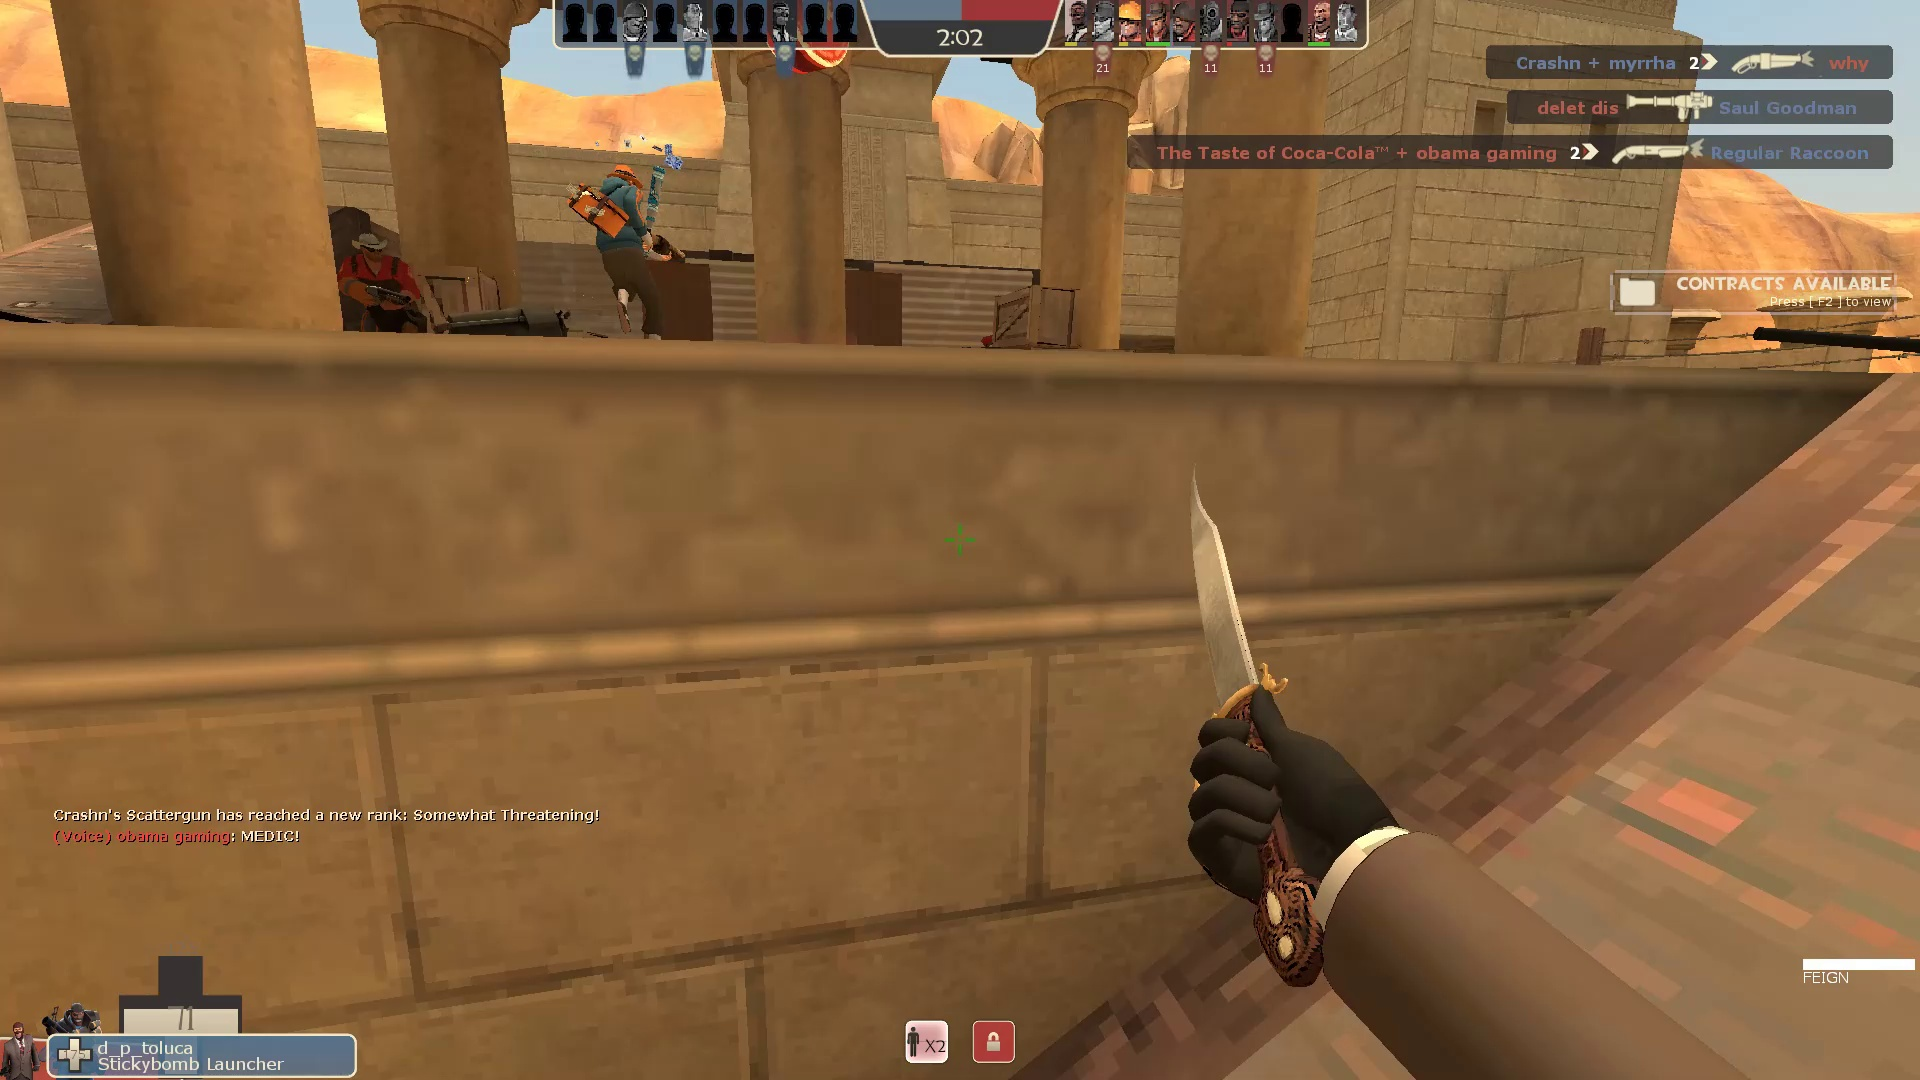blu_scout: (559, 154, 694, 361)
red_engineer: (328, 223, 442, 388)
